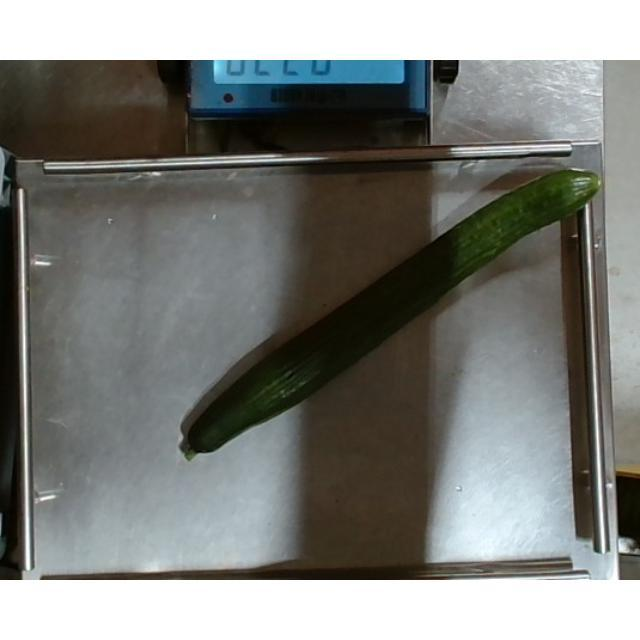cucumber: (175, 166, 602, 464)
